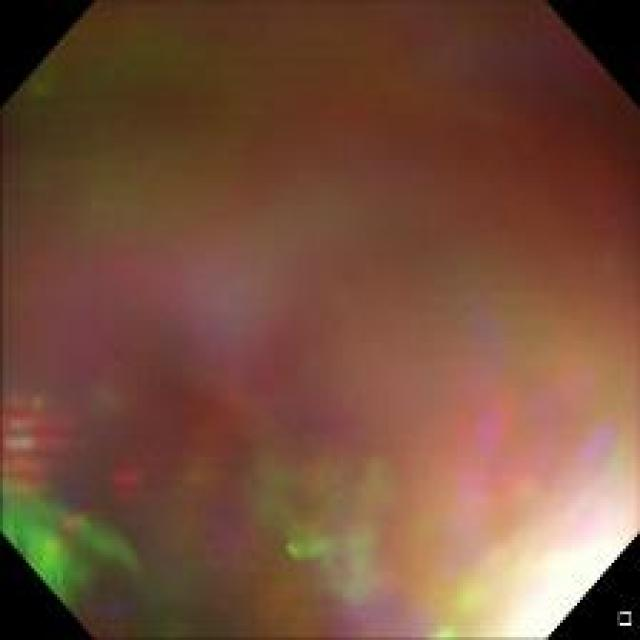color misalignment: (6, 8, 628, 625), (234, 446, 401, 604), (0, 485, 135, 608), (5, 404, 60, 469)
saturation: (486, 494, 631, 630)
